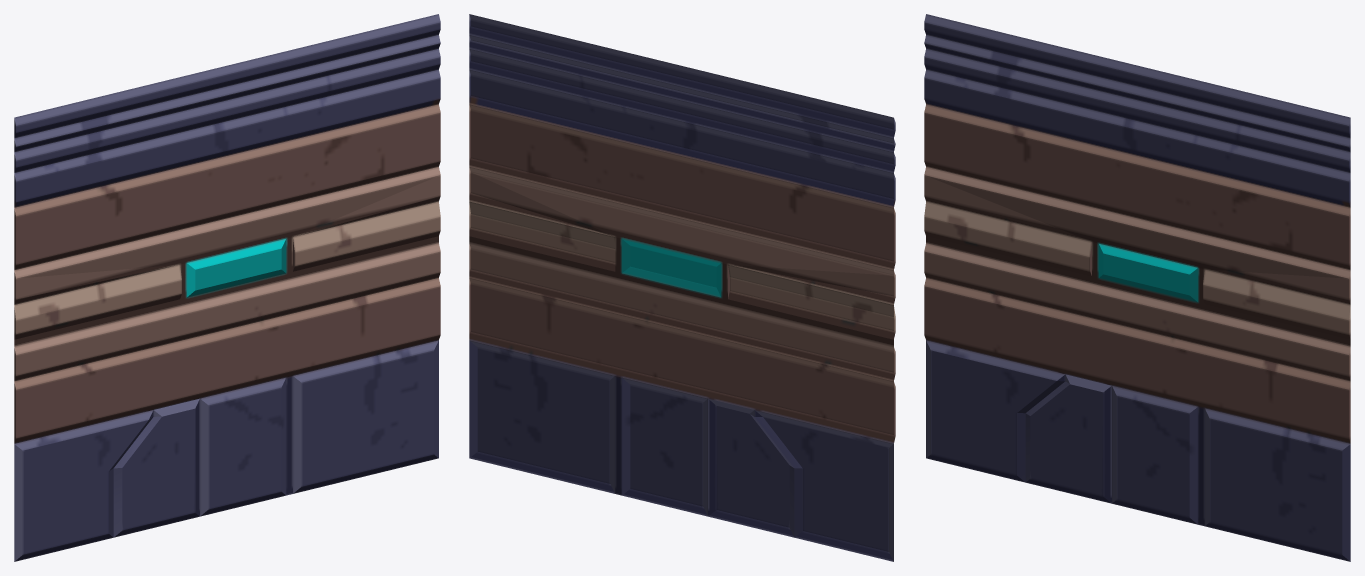
The model's file is sci3_1.fbx.
3 views of the same model, side by side, from view 1: azimuth 30°, elevation 25°; view 2: azimuth 150°, elevation 25°; view 3: azimuth 330°, elevation 25° (orthographic).
Parts seen in each view (by area): view 1: sci3_1_mesh; view 2: sci3_1_mesh; view 3: sci3_1_mesh.
Part boxes in pixels (x1,y1,x2,y2): sci3_1_mesh: (14,14,440,561); sci3_1_mesh: (469,14,895,561); sci3_1_mesh: (924,14,1350,561).
Bounding box in the file's own units: 256 × 256 × 2.
